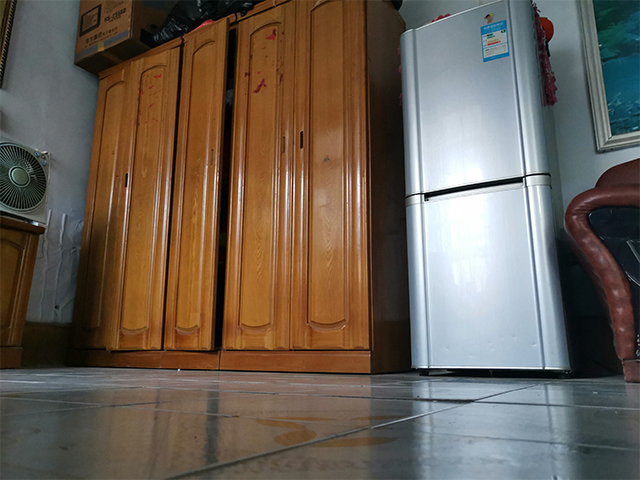cabinet: (58, 1, 416, 376)
sofa: (560, 158, 640, 384)
